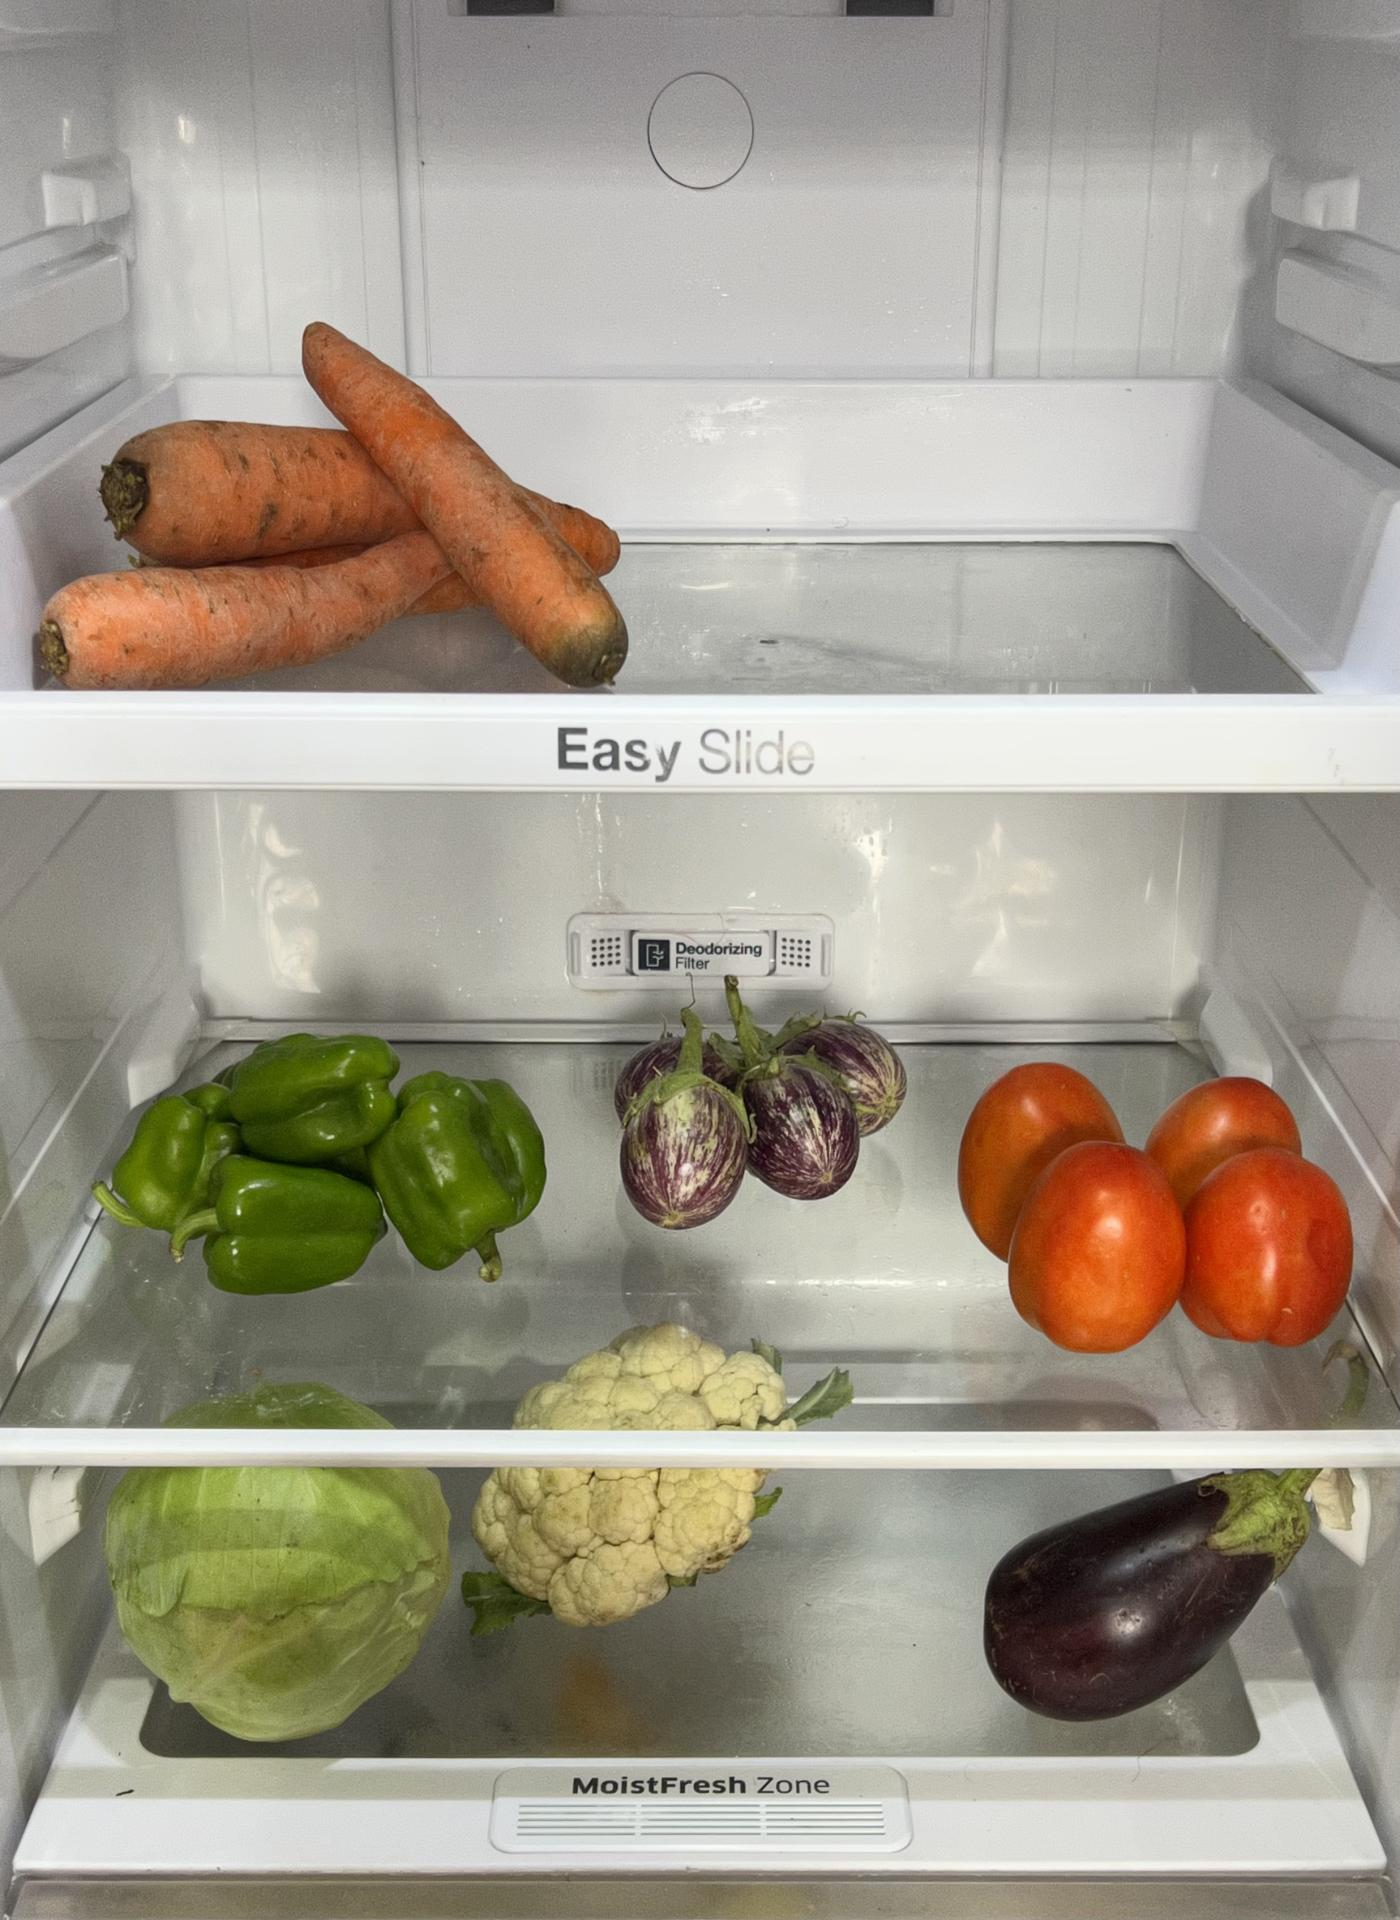cabbage: (106, 1462, 453, 1740)
capsicum: (112, 1033, 541, 1297)
carrots: (33, 417, 626, 689)
cauliflower: (476, 1334, 790, 1613)
tomato: (963, 1057, 1354, 1357)
